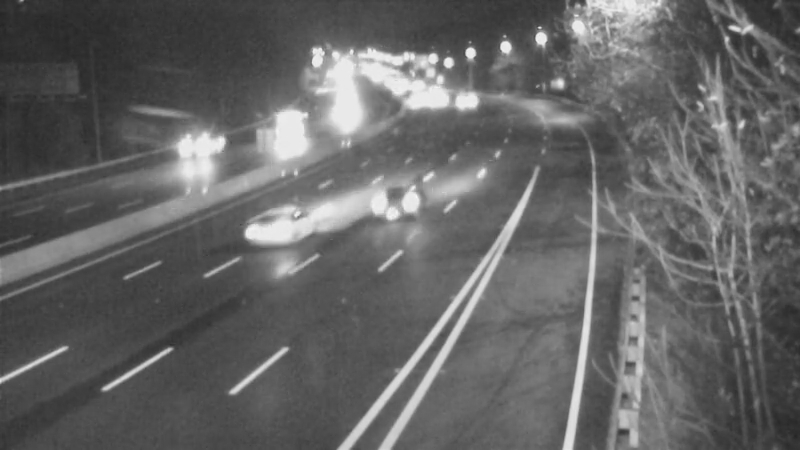vehicle: (363, 151, 443, 231), (227, 193, 307, 273), (157, 115, 237, 195), (445, 77, 495, 127), (263, 112, 313, 162), (322, 95, 372, 145)
